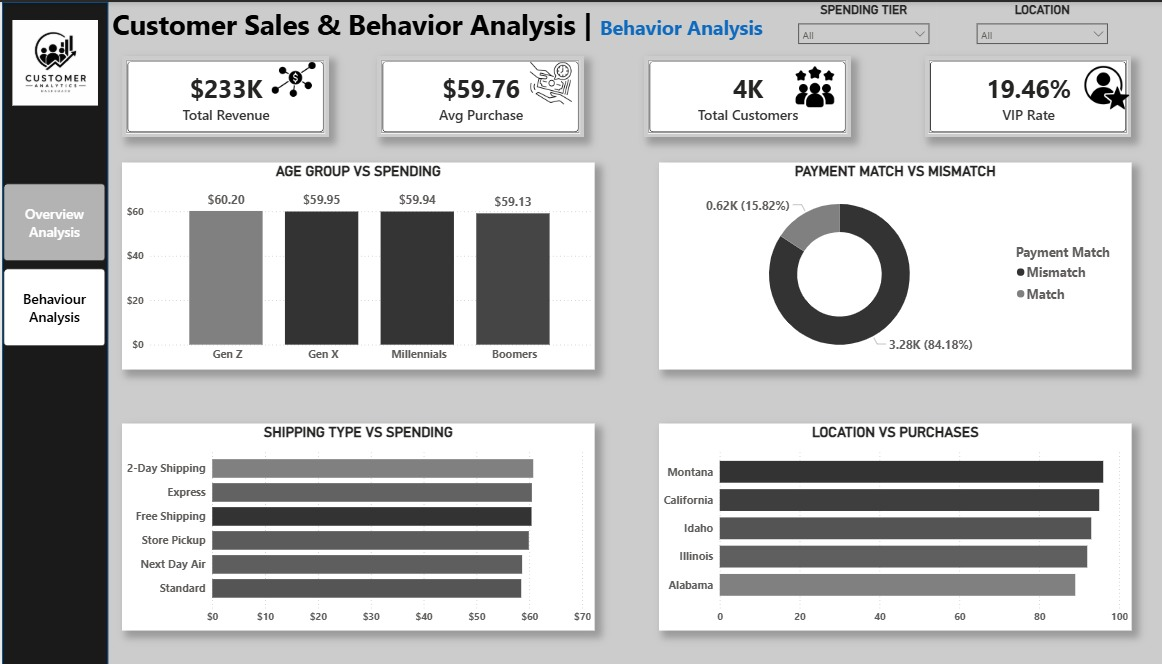

The page's visual inventory and layout, read from the dashboard file:
{"tool":"powerbi","page":{"name":" BEHAVIOUR ANALYSIS","canvas":[1576,900],"ordinal":1},"visuals":[{"type":"shape","box":[0,0,144,900],"z":0},{"type":"textbox","box":[144.8,0,946.6,69.9],"z":1000},{"type":"slicer","title":"SPENDING TIER","fields":{"Values":["Sales Table.Spending Tiers"]},"box":[1069.5,0,197.2,73.2],"z":2000},{"type":"slicer","title":"LOCATION","fields":{"Values":["Sales Table.Location"]},"box":[1311.4,0,197.2,73.2],"z":3000},{"type":"cardVisual","fields":{"Data":["Sales Table.Total Revenue"]},"box":[162,74,280,110],"z":4000},{"type":"cardVisual","fields":{"Data":["Sales Table.Avg Purchase"]},"box":[508,74,280,110],"z":5000},{"type":"cardVisual","fields":{"Data":["Sales Table.Total Customers"]},"box":[870,74,280,110],"z":6000},{"type":"cardVisual","fields":{"Data":["Sales Table.VIP Rate"]},"box":[1250,74,280,110],"z":7000},{"type":"clusteredColumnChart","title":"AGE GROUP VS SPENDING","fields":{"Category":["Sales Table.Age Bracket"],"Y":["Sales Table.Avg Purchase"]},"box":[162.7,217.6,640.5,280.6],"z":8000},{"type":"donutChart","title":"PAYMENT MATCH VS MISMATCH","fields":{"Y":["CountNonNull(Sales Table.Customer ID)"],"Category":["Sales Table.Payment Match"]},"box":[890.5,217.6,640.5,280.6],"z":9000},{"type":"clusteredBarChart","title":"SHIPPING TYPE VS SPENDING","fields":{"Category":["Sales Table.Shipping Type"],"Y":["Sales Table.Avg Purchase"]},"box":[162.7,571.3,640.5,280.6],"z":10000},{"type":"clusteredBarChart","title":"LOCATION VS PURCHASES","fields":{"Category":["Sales Table.Location"],"Y":["CountNonNull(Sales Table.Customer ID)"]},"box":[890.5,571.3,640.5,280.6],"z":11000},{"type":"image","box":[6.1,24.4,132.2,115.9],"z":12000},{"type":"pageNavigator","box":[2,246,138.3,221.6],"z":13000},{"type":"image","box":[347.7,73.2,95.6,63],"z":14000},{"type":"image","box":[713.6,73.2,61,73.2],"z":15000},{"type":"image","box":[1053.2,83.4,97.6,63],"z":16000},{"type":"image","box":[1463.9,83.4,67.1,65.1],"z":17000}]}

Visuals, with their boxes in screenshot pixels (x1, y1, x2, y2), scaled from the page's 1576x900 canvas onto the 1162x664 screenshot:
shape: {"left": 0, "top": 0, "right": 106, "bottom": 663}
textbox: {"left": 107, "top": 0, "right": 805, "bottom": 52}
"SPENDING TIER" slicer: {"left": 789, "top": 0, "right": 934, "bottom": 54}
"LOCATION" slicer: {"left": 967, "top": 0, "right": 1112, "bottom": 54}
cardVisual - Sales Table.Total Revenue: {"left": 119, "top": 55, "right": 326, "bottom": 136}
cardVisual - Sales Table.Avg Purchase: {"left": 375, "top": 55, "right": 581, "bottom": 136}
cardVisual - Sales Table.Total Customers: {"left": 641, "top": 55, "right": 848, "bottom": 136}
cardVisual - Sales Table.VIP Rate: {"left": 922, "top": 55, "right": 1128, "bottom": 136}
"AGE GROUP VS SPENDING" clusteredColumnChart: {"left": 120, "top": 161, "right": 592, "bottom": 368}
"PAYMENT MATCH VS MISMATCH" donutChart: {"left": 657, "top": 161, "right": 1129, "bottom": 368}
"SHIPPING TYPE VS SPENDING" clusteredBarChart: {"left": 120, "top": 421, "right": 592, "bottom": 629}
"LOCATION VS PURCHASES" clusteredBarChart: {"left": 657, "top": 421, "right": 1129, "bottom": 629}
image: {"left": 4, "top": 18, "right": 102, "bottom": 104}
pageNavigator: {"left": 1, "top": 181, "right": 103, "bottom": 345}
image: {"left": 256, "top": 54, "right": 327, "bottom": 100}
image: {"left": 526, "top": 54, "right": 571, "bottom": 108}
image: {"left": 777, "top": 62, "right": 848, "bottom": 108}
image: {"left": 1079, "top": 62, "right": 1129, "bottom": 110}
